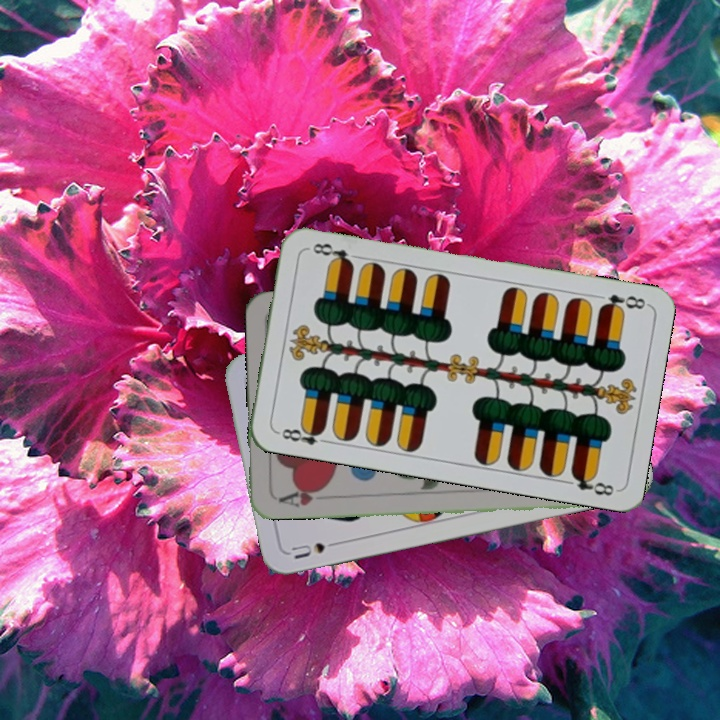E8: (273, 421, 332, 448), (596, 290, 649, 315)
HA: (274, 483, 329, 510)
SU: (287, 536, 345, 562)
